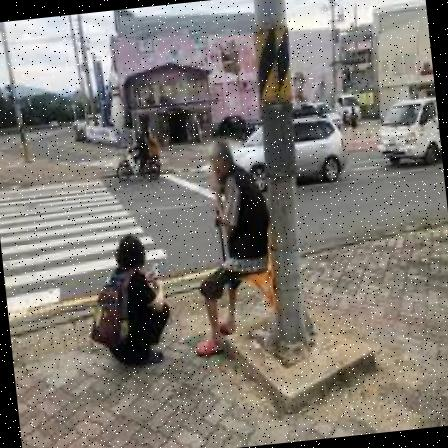silver: (182, 139, 280, 356), (93, 234, 177, 373)
